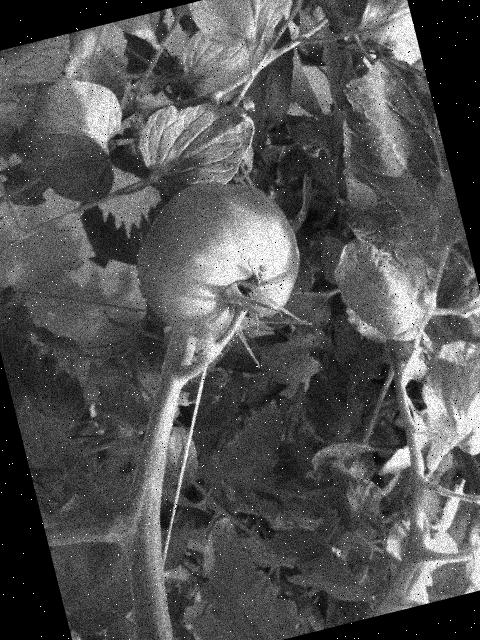b_fully_ripened: (119, 162, 316, 352)
